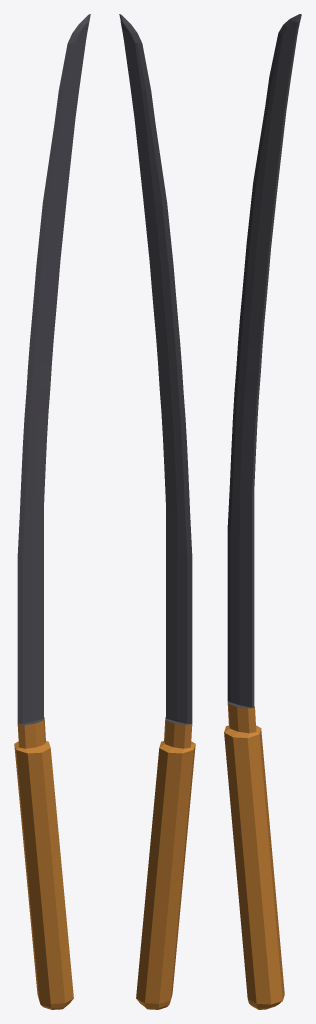
The model's file is TestKatana.obj.
3 renders of one model, left to right at view 1: azimuth 30°, elevation 25°; view 2: azimuth 150°, elevation 25°; view 3: azimuth 330°, elevation 25°, orthographic.
Visible parts, largest first — view 1: Circle; view 2: Circle; view 3: Circle.
Part boxes in pixels (x1,y1,x2,y2): Circle: (14, 14, 90, 1009); Circle: (119, 14, 195, 1009); Circle: (224, 14, 301, 1009).
Bounding box in the file's own units: 0.5177 × 6.52 × 0.2271.
